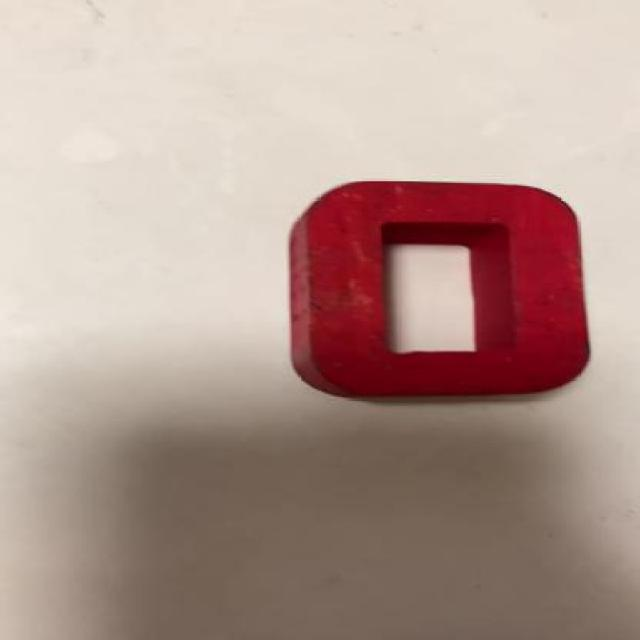O: (284, 178, 596, 402)
